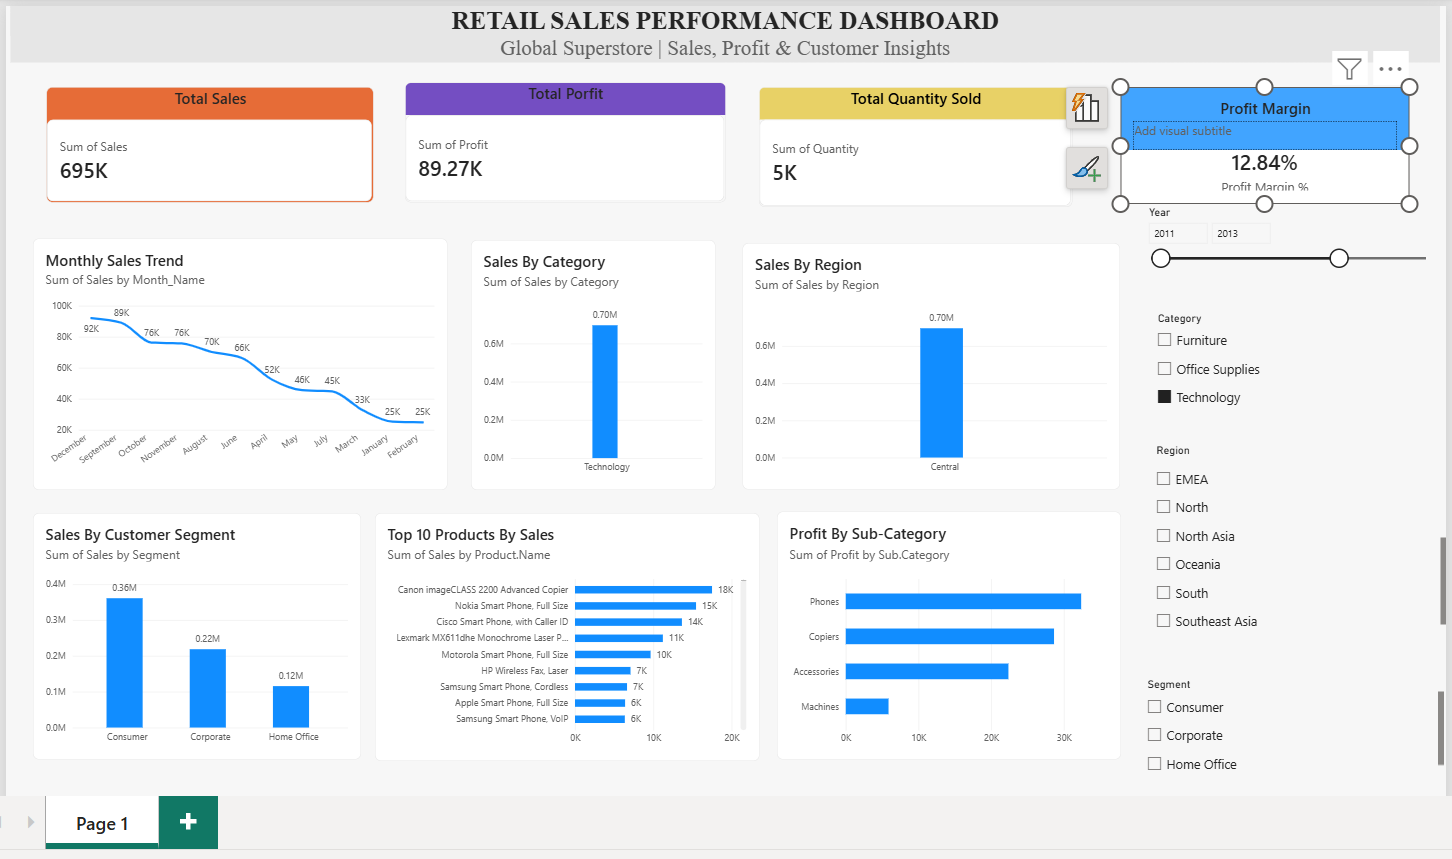

The page's visual inventory and layout, read from the dashboard file:
{"tool":"powerbi","page":{"name":"Page 1","canvas":[1920,1080],"ordinal":0},"visuals":[{"type":"cardVisual","title":"Total Sales","fields":{"Data":["Sum(Global_Superstore_Cleaned.Sales)"]},"box":[54.7,107.5,435.9,154.1],"z":0},{"type":"cardVisual","title":"Total Porfit","fields":{"Data":["Sum(Global_Superstore_Cleaned.Profit)"]},"box":[531.2,101.4,427.8,160.2],"z":1000},{"type":"cardVisual","title":"Total Quantity Sold","fields":{"Data":["Sum(Global_Superstore_Cleaned.Quantity)"]},"box":[1003.6,107.5,417.7,160.2],"z":2000},{"type":"card","title":"Profit Margin","fields":{"Values":["Global_Superstore_Cleaned.Profit Margin %"]},"box":[1486.2,107.5,385.2,156.1],"z":3000},{"type":"lineChart","title":"Monthly Sales Trend","fields":{"Category":["Global_Superstore_Cleaned.Month_Name"],"Y":["Sum(Global_Superstore_Cleaned.Sales)"]},"box":[35.4,309.5,552.9,335.5],"z":4000},{"type":"clusteredColumnChart","title":"Sales By Category","fields":{"Category":["Global_Superstore_Cleaned.Category"],"Y":["Sum(Global_Superstore_Cleaned.Sales)"]},"box":[619,311.9,326,333.1],"z":5000},{"type":"clusteredColumnChart","title":"Sales By Region","fields":{"Category":["Global_Superstore_Cleaned.Region"],"Y":["Sum(Global_Superstore_Cleaned.Sales)"]},"box":[982.9,316.6,503.2,328.4],"z":6000},{"type":"clusteredBarChart","title":"Top 10 Products By Sales","fields":{"Category":["Global_Superstore_Cleaned.Product.Name"],"Y":["Sum(Global_Superstore_Cleaned.Sales)"]},"box":[491.4,675.7,512.7,330.8],"z":7000},{"type":"clusteredColumnChart","title":"Sales By Customer Segment","fields":{"Category":["Global_Superstore_Cleaned.Segment"],"Y":["Sum(Global_Superstore_Cleaned.Sales)"]},"box":[35.4,675.7,437.1,328.4],"z":8000},{"type":"slicer","fields":{"Values":["Global_Superstore_Cleaned.Year"]},"box":[1516.8,267,396,150],"z":9000},{"type":"slicer","fields":{"Values":["Global_Superstore_Cleaned.Region"]},"box":[1526.3,583.6,394.6,257.5],"z":10000},{"type":"slicer","fields":{"Values":["Global_Superstore_Cleaned.Segment"]},"box":[1514.4,895.4,403.5,127.7],"z":11000},{"type":"slicer","fields":{"Values":["Global_Superstore_Cleaned.Category"]},"box":[1528.6,408.7,378,150],"z":12000},{"type":"textbox","title":"RETAIL SALES PERFORMANCE DASHBOARD","box":[6.1,0,1905.9,75],"z":13000},{"type":"clusteredBarChart","title":"Profit By Sub-Category","fields":{"Category":["Global_Superstore_Cleaned.Sub.Category"],"Y":["Sum(Global_Superstore_Cleaned.Profit)"]},"box":[1027.7,673.3,458.3,330.8],"z":13001}]}

Visuals, with their boxes on the page's 1920x1080 design canvas (x1, y1, x2, y2). These are canvas units, not pixel positions in the 1452x859 screenshot, which may show the page scaled, cropped or inside an application window:
"Total Sales" cardVisual: 55:108:491:262
"Total Porfit" cardVisual: 531:101:959:262
"Total Quantity Sold" cardVisual: 1004:108:1421:268
"Profit Margin" card: 1486:108:1871:264
"Monthly Sales Trend" lineChart: 35:310:588:645
"Sales By Category" clusteredColumnChart: 619:312:945:645
"Sales By Region" clusteredColumnChart: 983:317:1486:645
"Top 10 Products By Sales" clusteredBarChart: 491:676:1004:1006
"Sales By Customer Segment" clusteredColumnChart: 35:676:472:1004
slicer - Global_Superstore_Cleaned.Year: 1517:267:1913:417
slicer - Global_Superstore_Cleaned.Region: 1526:584:1921:841
slicer - Global_Superstore_Cleaned.Segment: 1514:895:1918:1023
slicer - Global_Superstore_Cleaned.Category: 1529:409:1907:559
"RETAIL SALES PERFORMANCE DASHBOARD" textbox: 6:0:1912:75
"Profit By Sub-Category" clusteredBarChart: 1028:673:1486:1004
